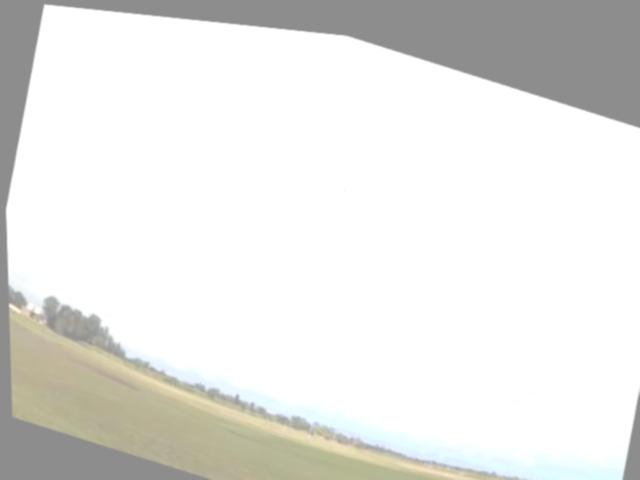uav: (321, 160, 365, 200)
